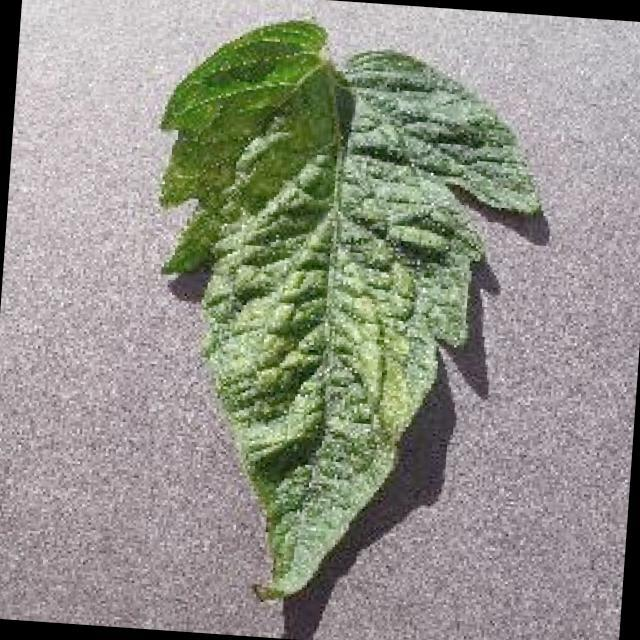Tomato spider mites leaf: (127, 10, 552, 618)
